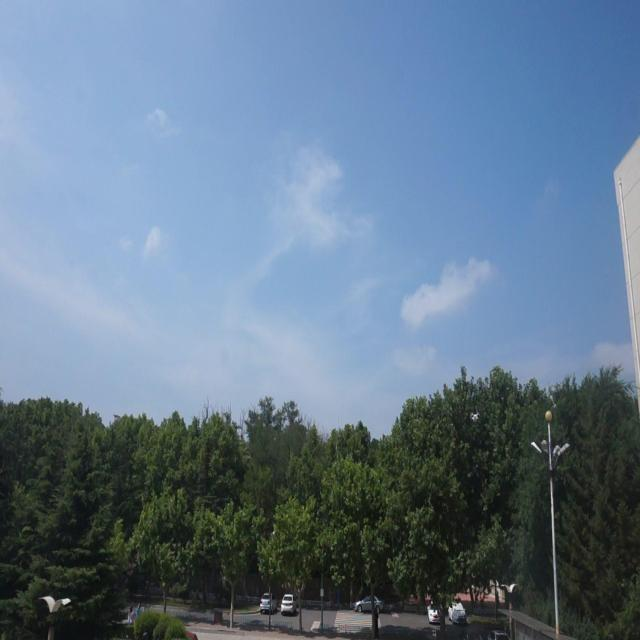drone: (468, 405, 482, 427)
